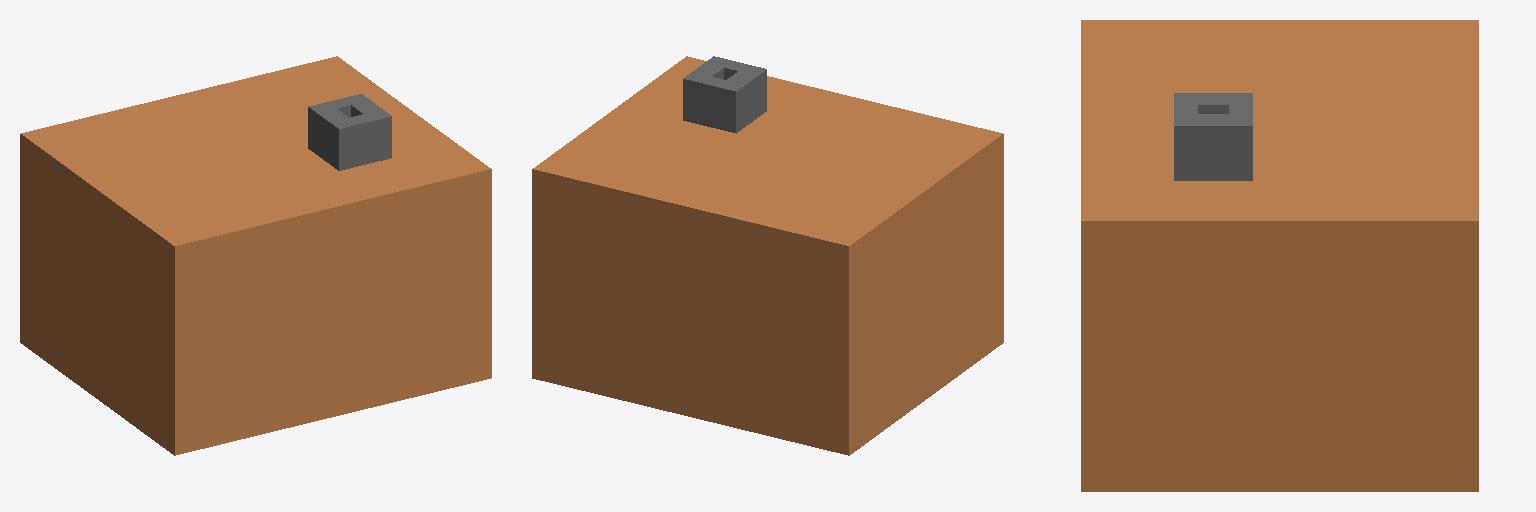
URDF robot description (peg_in_hole_tolerances_scenes_scene_0042_tol07):
<?xml version="1.0"?>
<robot name="peg_in_hole_tolerances_scenes_scene_0042_tol07">
  <material name="wood"><color rgba="0.82 0.56 0.35 1.0"/></material>
  <material name="hole_grey"><color rgba="0.4706 0.4706 0.4706 1.0"/></material>
  <link name="box">
    <visual>
      <origin xyz="0.000000 0.000000 0.000000" rpy="0 0 0"/>
      <geometry><box size="0.475000 0.400000 0.300000"/></geometry>
      <material name="wood"/>
    </visual>
    <collision>
      <origin xyz="0.000000 0.000000 0.000000" rpy="0 0 0"/>
      <geometry><box size="0.475000 0.400000 0.300000"/></geometry>
    </collision>
    <visual>
      <origin xyz="0.102741 -0.066709 0.155000" rpy="0 0 0"/>
      <geometry><box size="0.080000 0.080000 0.010000"/></geometry>
      <material name="hole_grey"/>
    </visual>
    <collision>
      <origin xyz="0.102741 -0.066709 0.155000" rpy="0 0 0"/>
      <geometry><box size="0.080000 0.080000 0.010000"/></geometry>
    </collision>
    <visual>
      <origin xyz="0.128156 -0.066709 0.185000" rpy="0 0 0"/>
      <geometry><box size="0.029171 0.080000 0.050000"/></geometry>
      <material name="hole_grey"/>
    </visual>
    <collision>
      <origin xyz="0.128156 -0.066709 0.185000" rpy="0 0 0"/>
      <geometry><box size="0.029171 0.080000 0.050000"/></geometry>
    </collision>
    <visual>
      <origin xyz="0.077327 -0.066709 0.185000" rpy="0 0 0"/>
      <geometry><box size="0.029171 0.080000 0.050000"/></geometry>
      <material name="hole_grey"/>
    </visual>
    <collision>
      <origin xyz="0.077327 -0.066709 0.185000" rpy="0 0 0"/>
      <geometry><box size="0.029171 0.080000 0.050000"/></geometry>
    </collision>
    <visual>
      <origin xyz="0.102741 -0.038795 0.185000" rpy="0 0 0"/>
      <geometry><box size="0.021658 0.024171 0.050000"/></geometry>
      <material name="hole_grey"/>
    </visual>
    <collision>
      <origin xyz="0.102741 -0.038795 0.185000" rpy="0 0 0"/>
      <geometry><box size="0.021658 0.024171 0.050000"/></geometry>
    </collision>
    <visual>
      <origin xyz="0.102741 -0.094624 0.185000" rpy="0 0 0"/>
      <geometry><box size="0.021658 0.024171 0.050000"/></geometry>
      <material name="hole_grey"/>
    </visual>
    <collision>
      <origin xyz="0.102741 -0.094624 0.185000" rpy="0 0 0"/>
      <geometry><box size="0.021658 0.024171 0.050000"/></geometry>
    </collision>
    <inertial>
      <mass value="500"/>
      <friction value="1.0"/>
      <inertia ixx="1000.0" ixy="0.0" ixz="0.0" iyy="1000.0" iyz="0.0" izz="1000.0"/>
    </inertial>
  </link>
</robot>

--- What the picture shows (computed from the rendered views, not written in the file) ---
The picture shows the robot from 3 angles, left to right: view 1: azimuth 30°, elevation 25°; view 2: azimuth 150°, elevation 25°; view 3: azimuth 270°, elevation 25°; orthographic projection.
Model peg_in_hole_tolerances_scenes_scene_0042_tol07 with 1 links and 0 joints (none), rooted at box, posed all joints at 0.
Visible links, largest first — view 1: box; view 2: box; view 3: box.
Link boxes in pixels (x1,y1,x2,y2): box: (20,56,491,455); box: (532,56,1003,455); box: (1081,20,1478,491).
Bounding box of the posed robot: 0.475 × 0.4 × 0.36 m (x, y, z).
Geometry: primitives only (box / cylinder / sphere), no mesh files.
